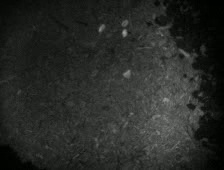corn: (121, 67, 132, 82), (119, 26, 130, 39), (119, 17, 130, 30), (96, 21, 107, 34)
